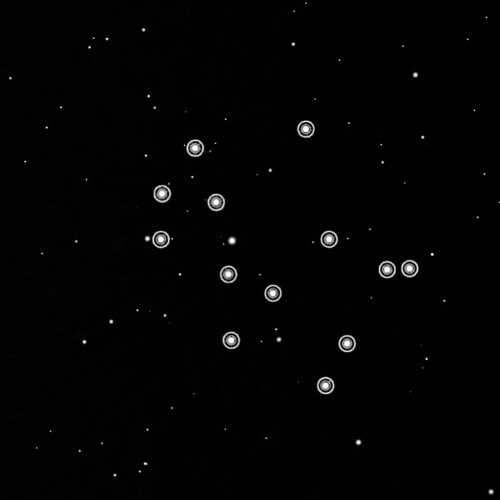gemini: (134, 112, 424, 402)
